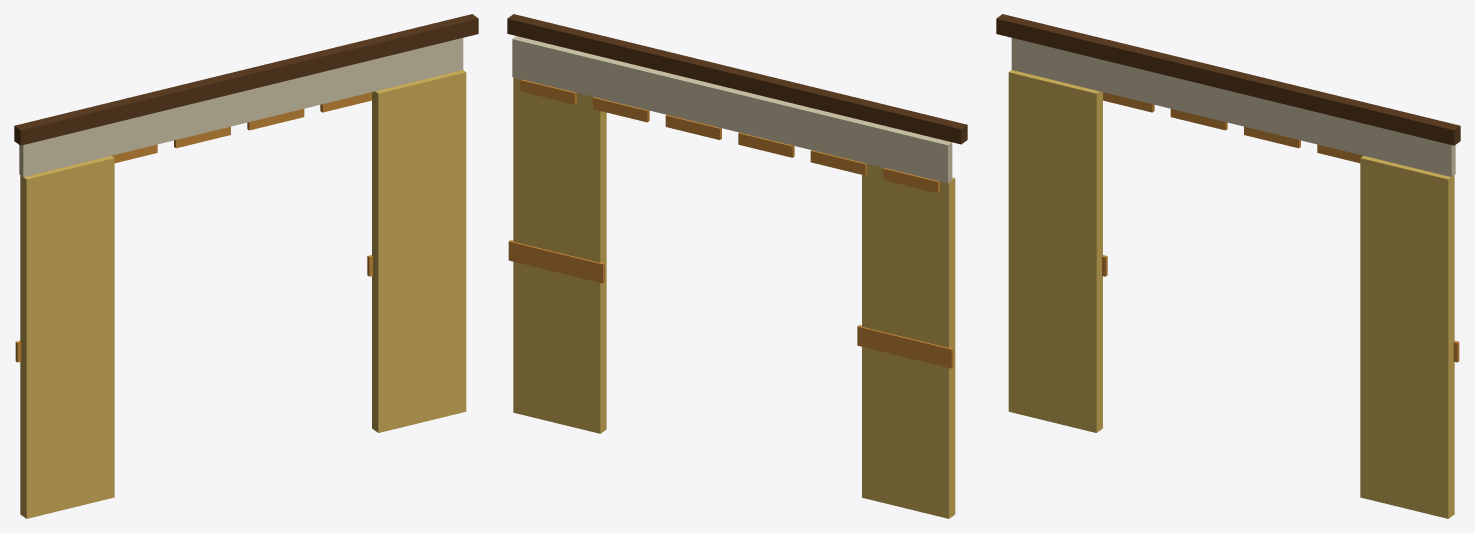
The model's file is ncb-curtains-yellow.glb.
The picture shows the model from 3 angles, left to right: view 1: azimuth 30°, elevation 25°; view 2: azimuth 150°, elevation 25°; view 3: azimuth 330°, elevation 25°; orthographic projection.
Parts seen in each view (by area): view 1: box-prop; view 2: box-prop; view 3: box-prop.
Part boxes in pixels (box(x1,y1,x2,y2)): box-prop: box(14, 14, 478, 518); box-prop: box(507, 14, 967, 518); box-prop: box(996, 14, 1460, 518).
Size of the model in its own units: 2.5 by 2.05 by 0.11.
